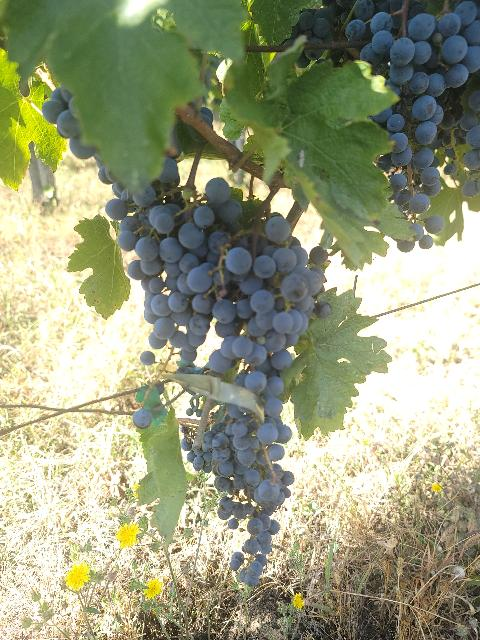grapes: (105, 158, 241, 352), (360, 1, 479, 215), (220, 216, 324, 399), (180, 404, 294, 505), (218, 496, 279, 588)
